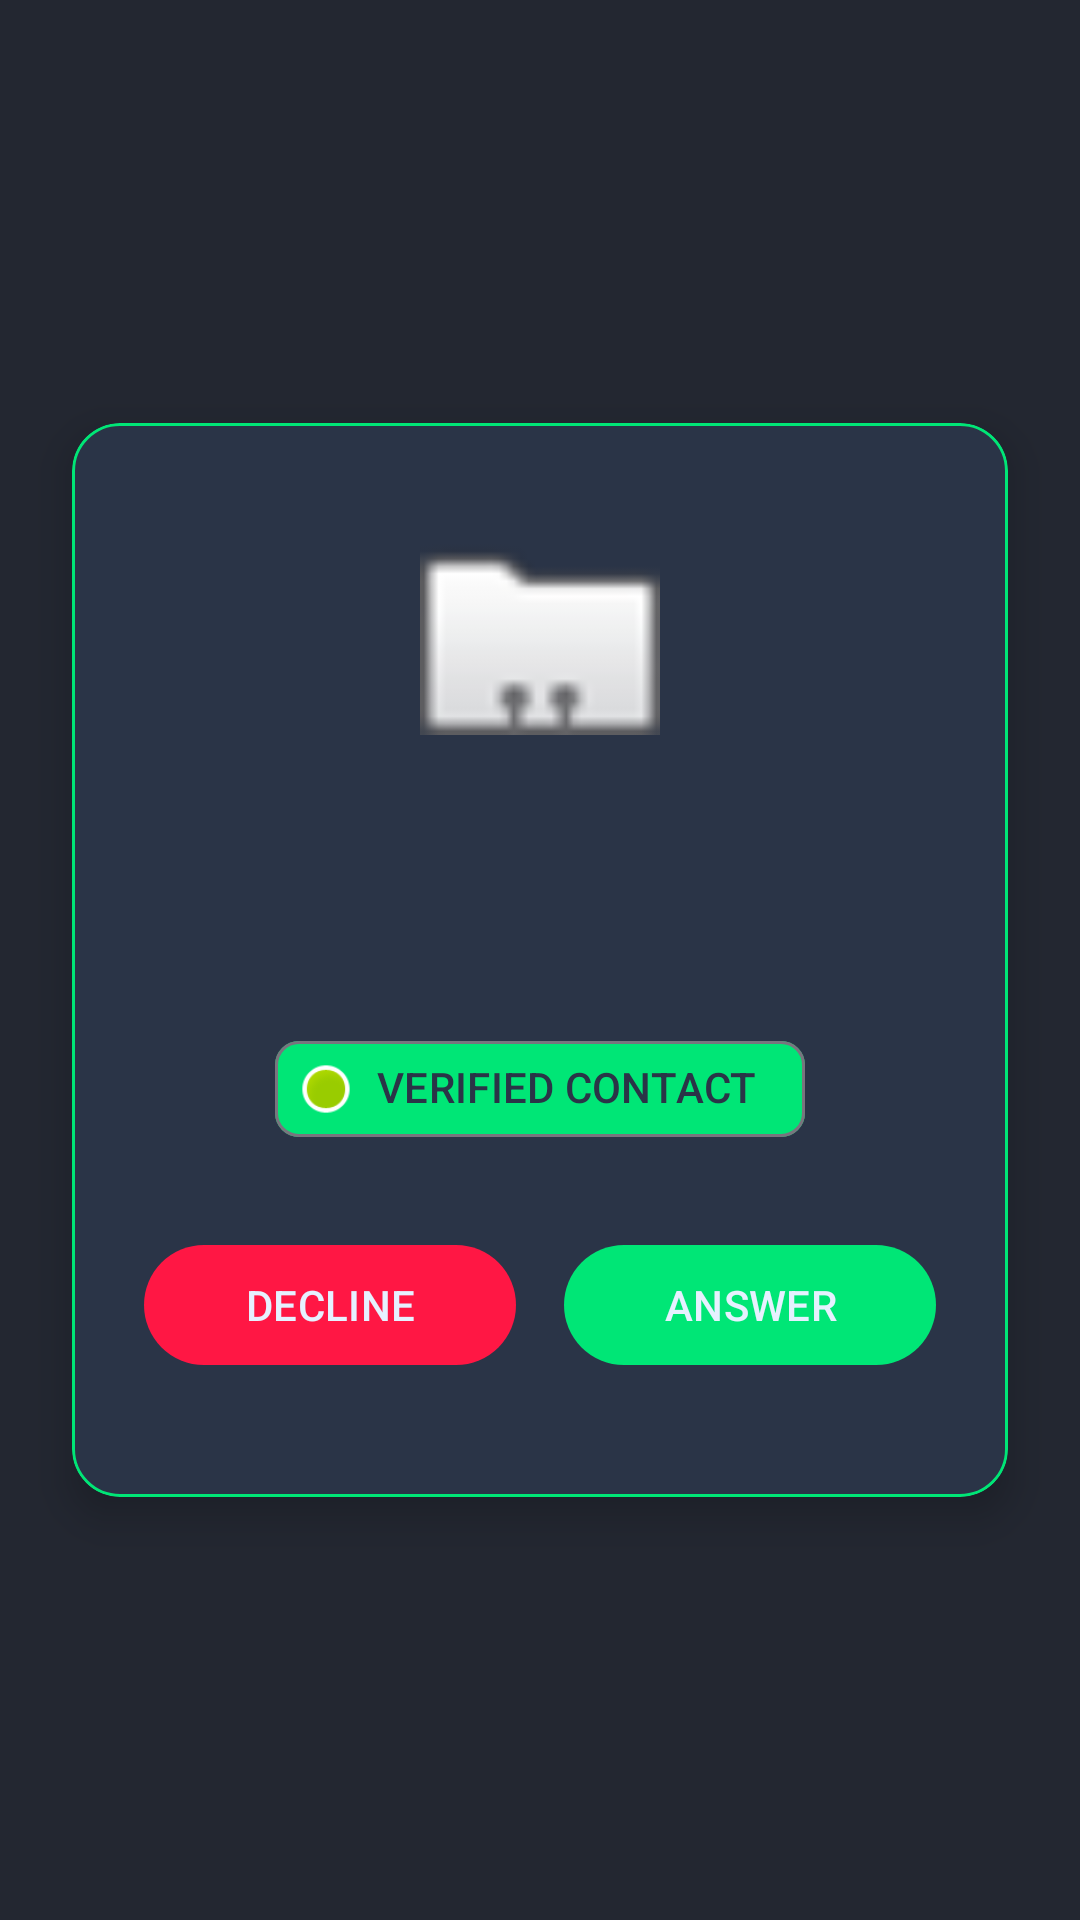

Screen size 1080 x 1920. Icon name, then its center in pixels as point (x, y):
sym contact card: point (540, 645)
